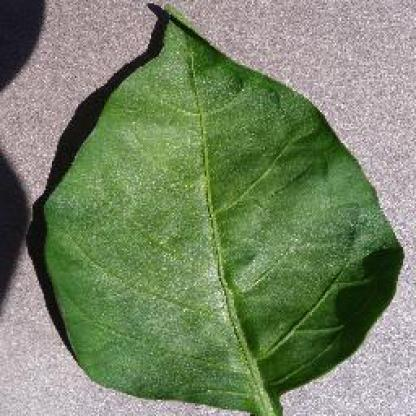good leaf: (39, 0, 405, 415)
